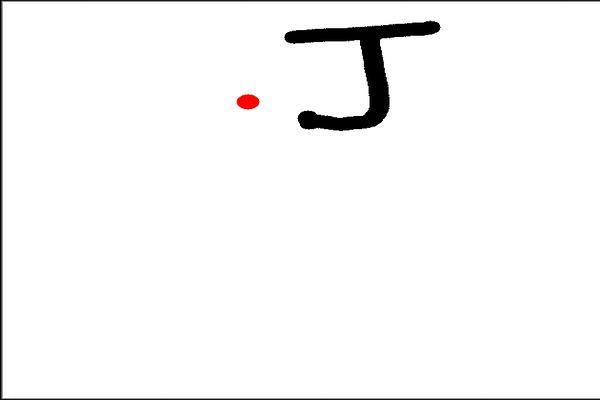J: (278, 18, 444, 135)
